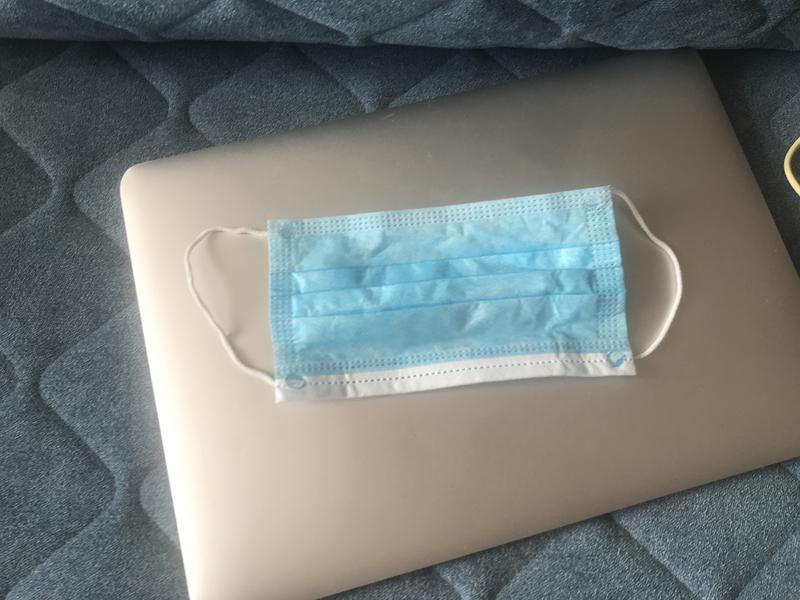medical_mask: (186, 185, 682, 404)
